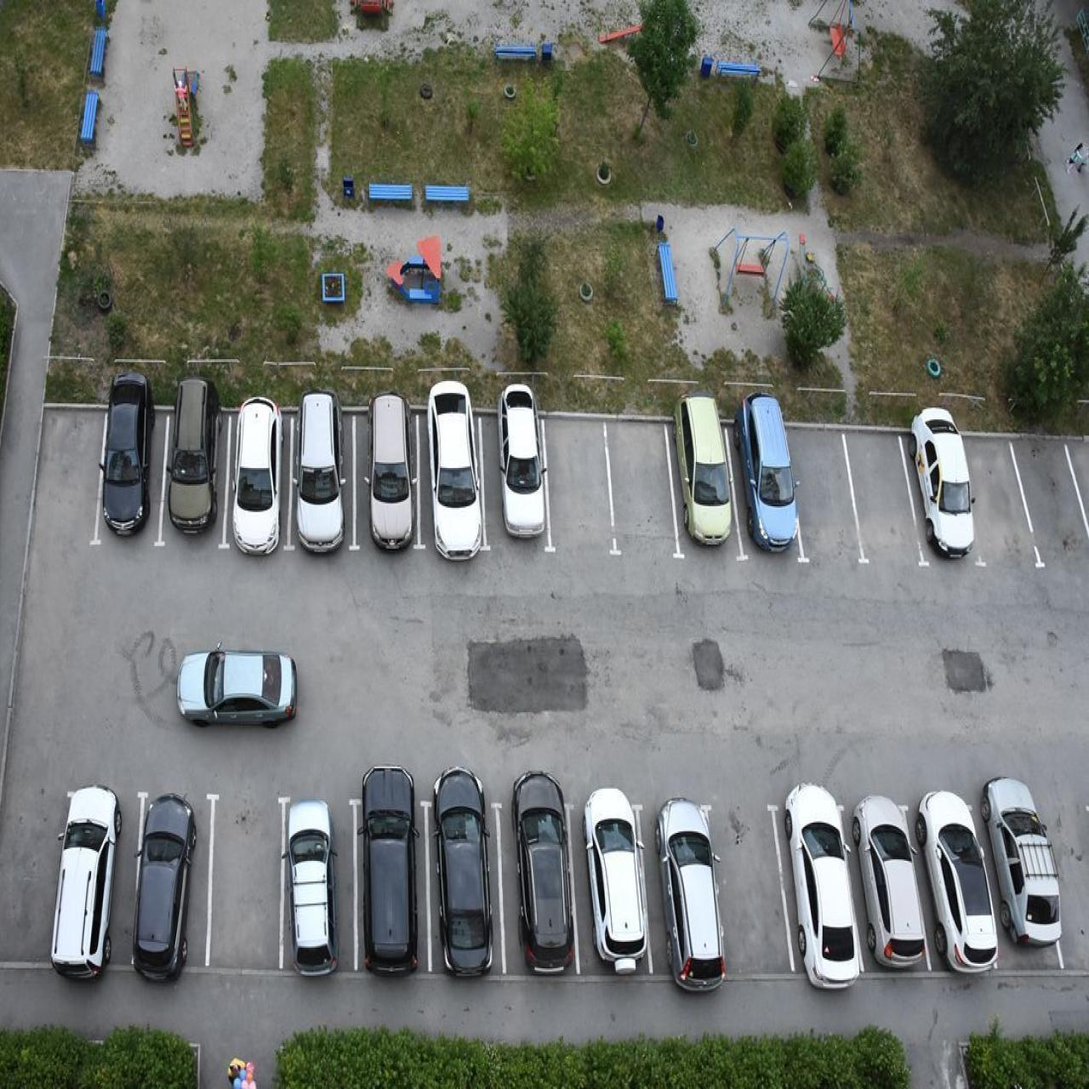cars: (50, 784, 130, 972), (128, 805, 210, 967), (496, 798, 570, 977), (642, 804, 708, 991), (281, 810, 359, 965), (433, 807, 500, 987), (356, 807, 426, 975), (853, 803, 917, 979), (917, 814, 984, 981), (577, 802, 638, 981), (479, 408, 549, 562), (907, 430, 976, 583), (989, 815, 1052, 979), (733, 418, 800, 571), (787, 812, 849, 974), (95, 411, 164, 556), (353, 404, 418, 554), (419, 406, 485, 552), (668, 423, 736, 561), (165, 409, 225, 557), (295, 404, 352, 558), (229, 414, 287, 564)
empty: (210, 800, 285, 965), (716, 807, 784, 984), (962, 423, 1036, 581), (605, 418, 678, 559), (845, 428, 917, 569), (787, 420, 853, 573), (544, 416, 611, 562), (1021, 428, 1088, 570), (1047, 822, 1089, 976)
